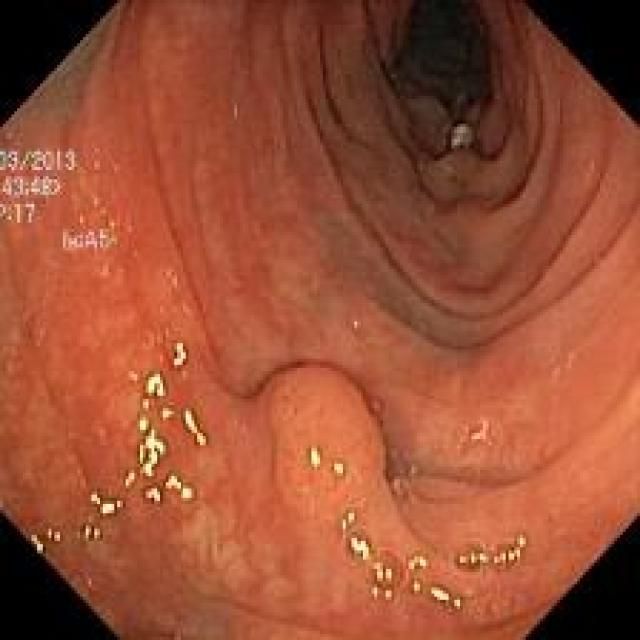Polyps: (270, 367, 385, 523)
